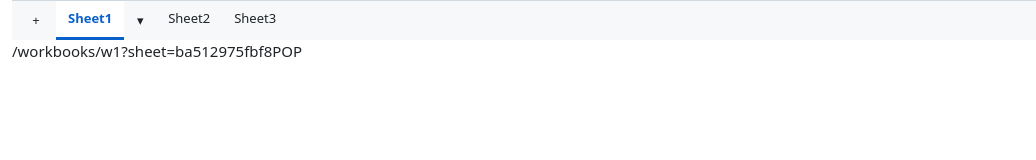
Test: SheetTabs › rename › keeps the draft when a collaborator renames the same sheet
This screenshot has width=1036, height=160.
Double-click the tab with test id "sheet-tab" showing "Sheet2" at (189, 18), box x1=168 y1=9 x2=210 y2=27
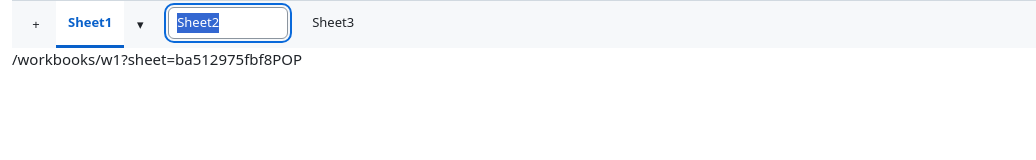
Replace the text in the field named "Sheet name" with "My draft" at (228, 23), box x1=168 y1=7 x2=288 y2=39
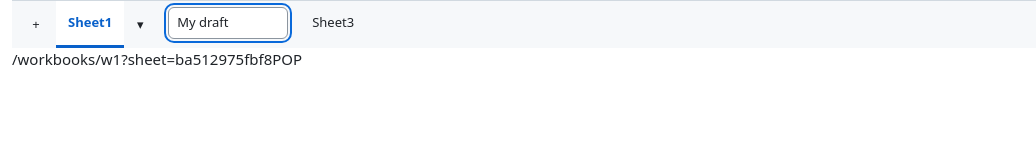
Press Escape in the field named "Sheet name", box x1=168 y1=7 x2=288 y2=39
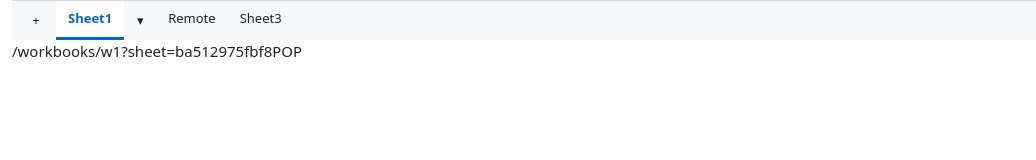
Expected: the text "Remote" is shown, x1=168 y1=9 x2=216 y2=29
